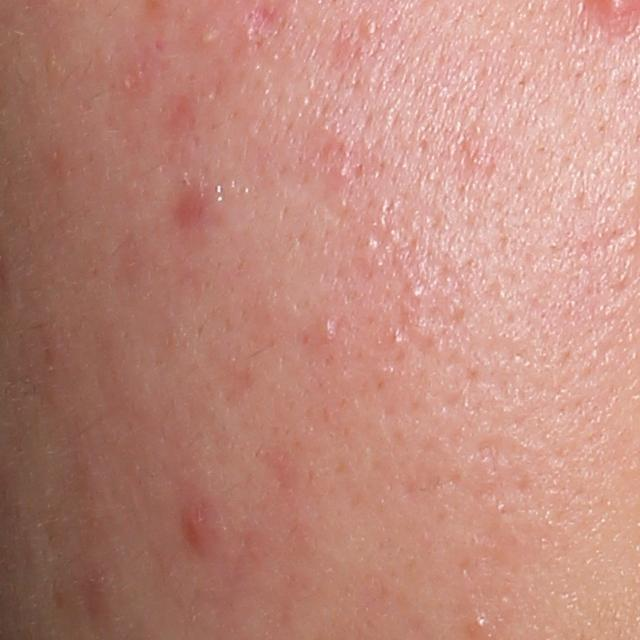comedo: (359, 12, 378, 39), (320, 319, 338, 341), (362, 232, 379, 252)
papule: (177, 499, 220, 560), (168, 184, 214, 231)
